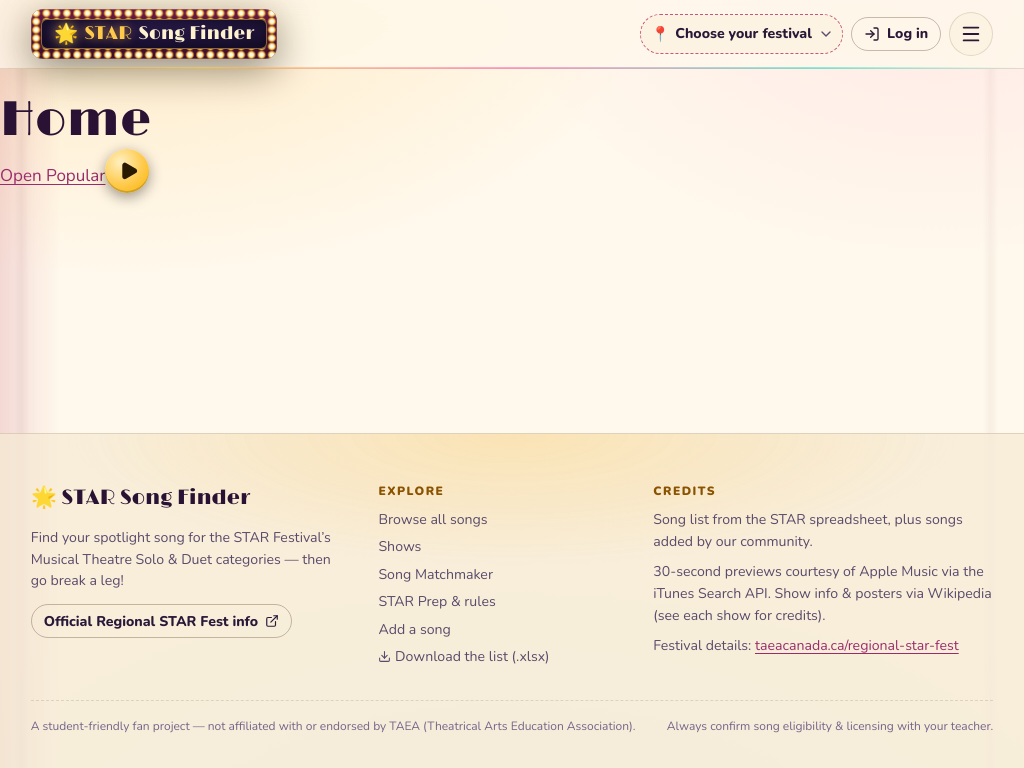
Scenario: Header mobile menu › closes when focus moves outside the menu and its button
This screenshot has width=1024, height=768.
Click the button with test id "menu-toggle" at (971, 34), box [949, 12, 993, 56]
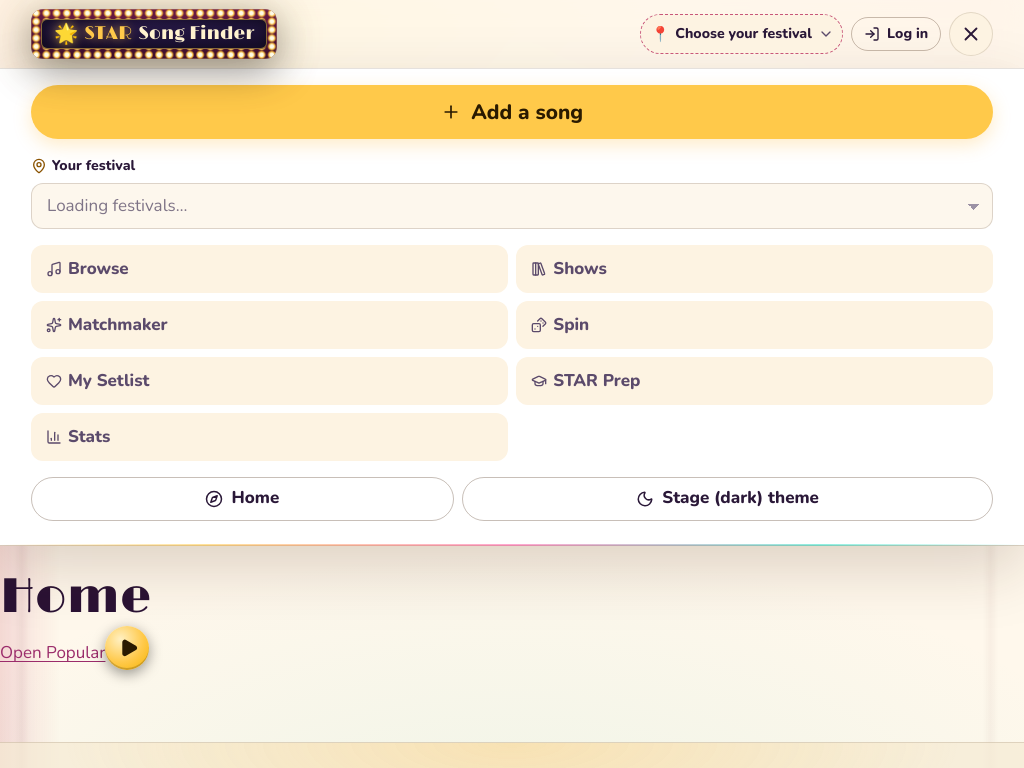
Leave the link with test id "mobile-nav-shows", box [516, 245, 993, 293]
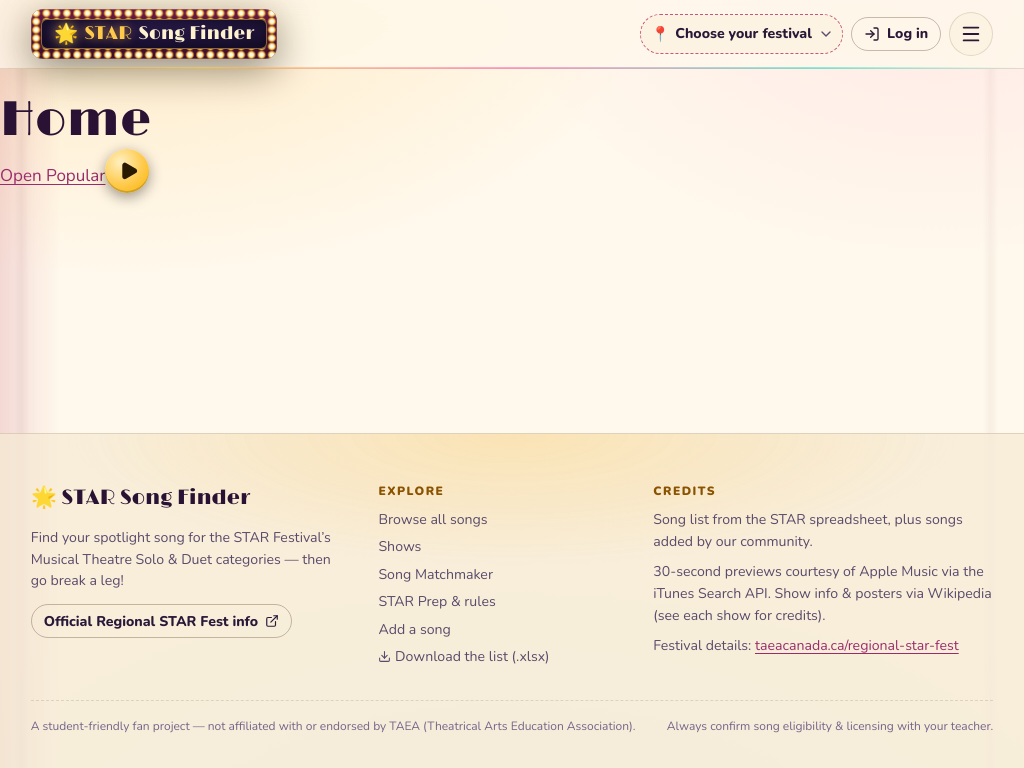
Check: the navigation bar with id "mobile-nav" is gone
